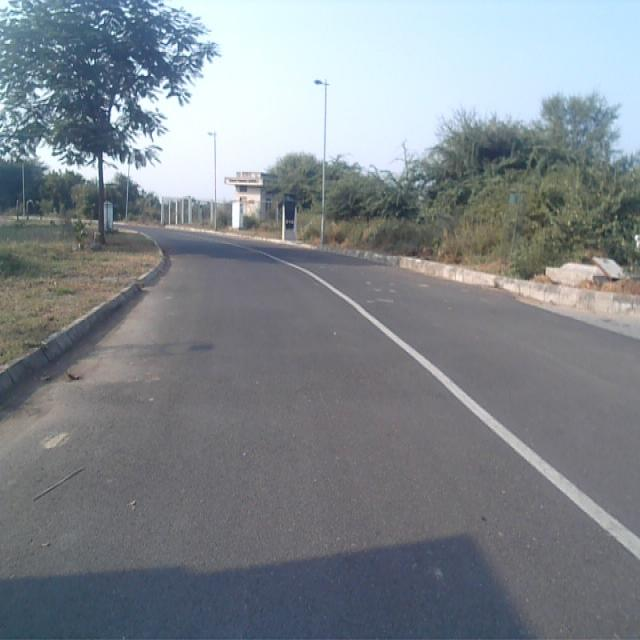lane: (0, 236, 640, 640)
